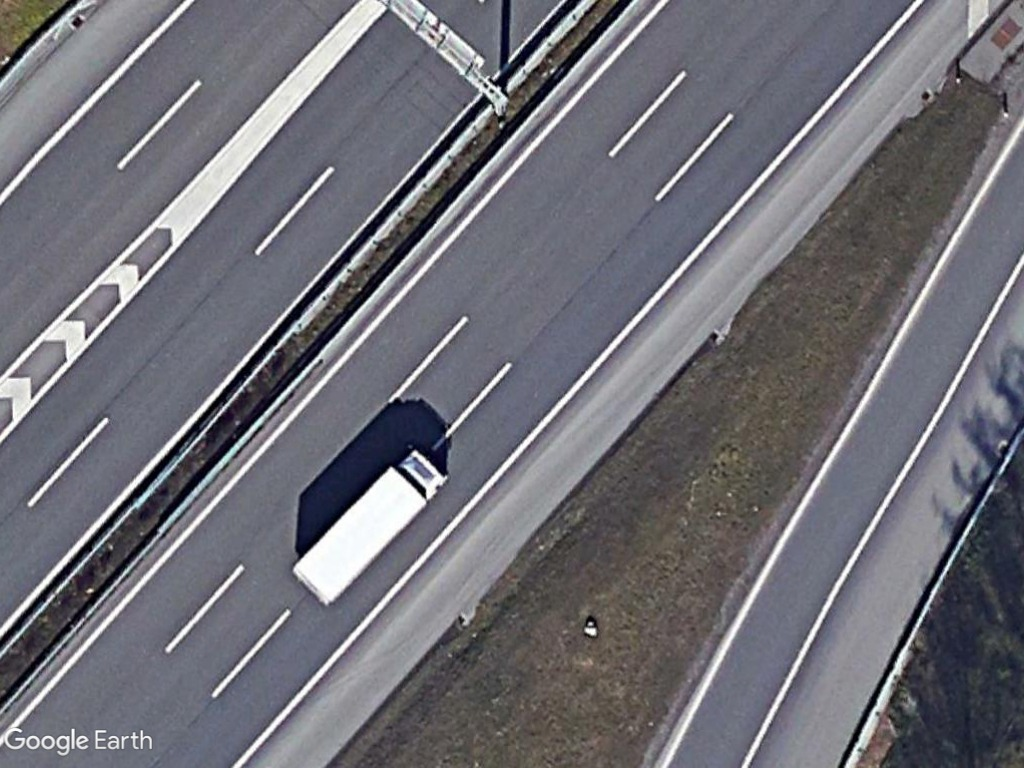truck: (284, 446, 453, 612)
